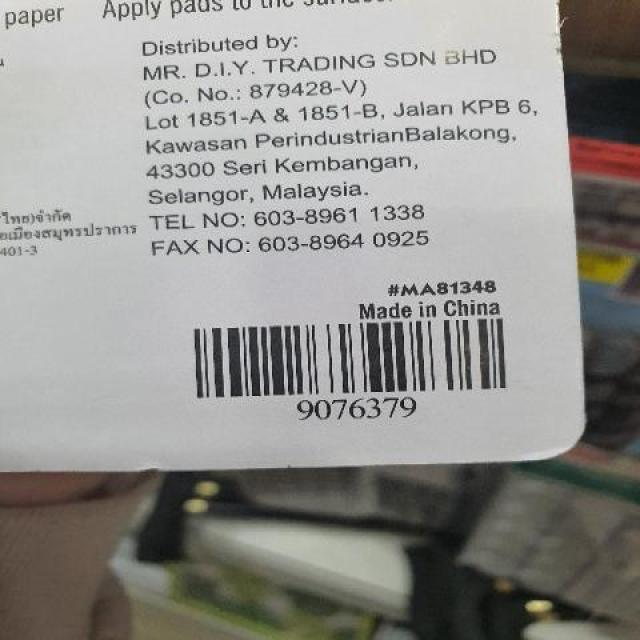Barcode: (177, 313, 528, 423)
